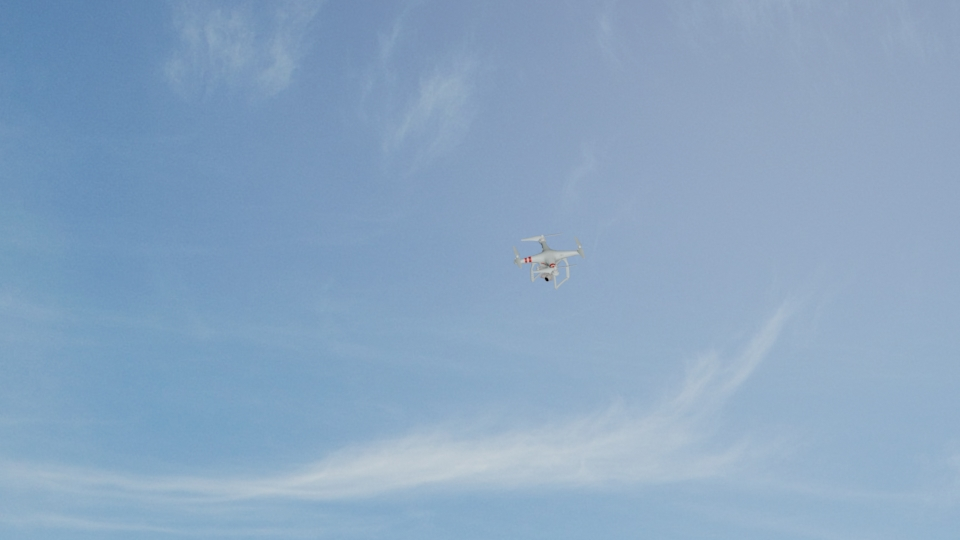drone: (513, 231, 586, 289)
